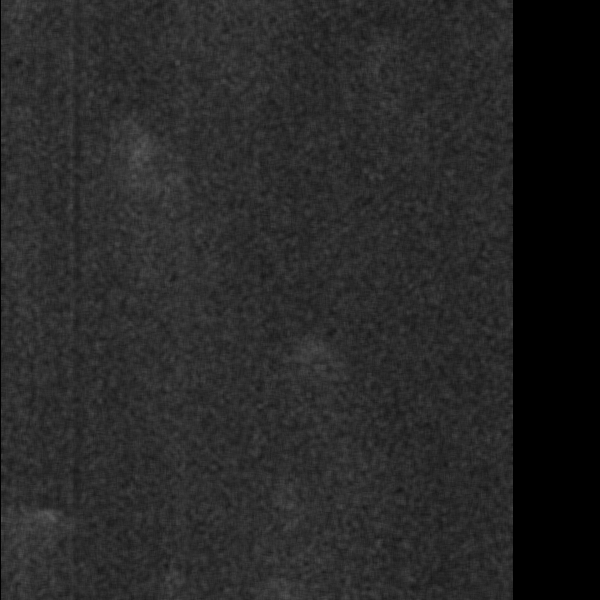spark: (146, 253, 208, 284), (284, 543, 331, 582)
